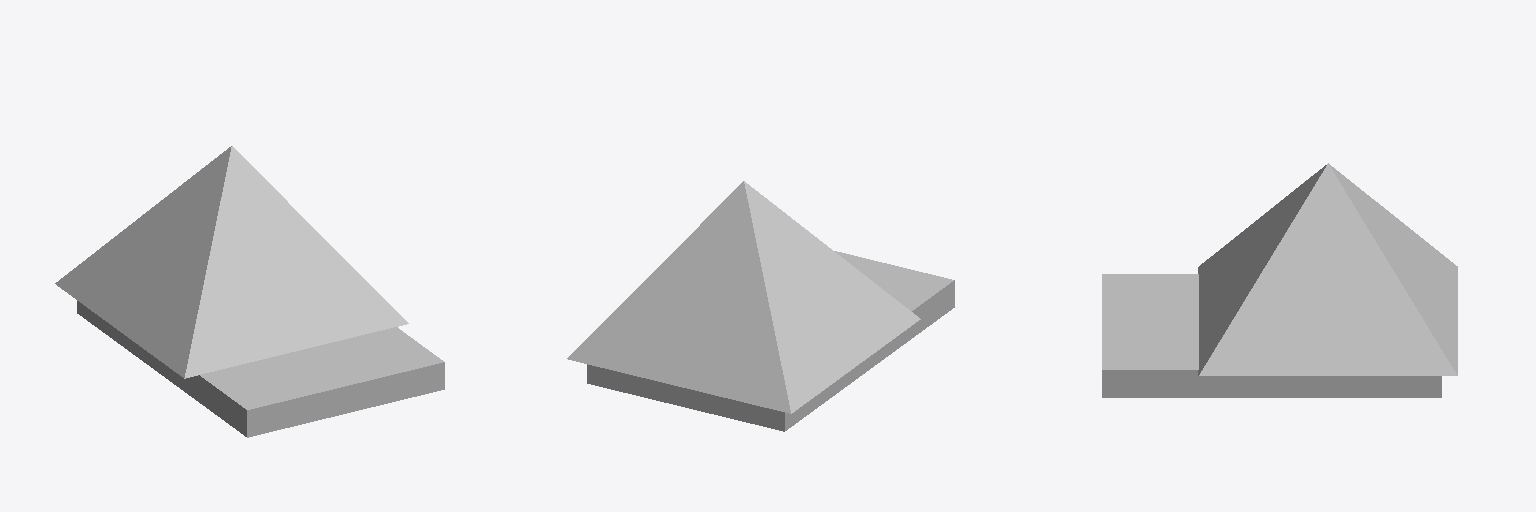
The model's file is Wall3.obj.
3 renders of one model, left to right at view 1: azimuth 30°, elevation 25°; view 2: azimuth 150°, elevation 25°; view 3: azimuth 270°, elevation 25°, orthographic.
Parts seen in each view (by area): view 1: Wall2:polySurface3 Wall2:polySurface28 Bench:Bench:polySurface15, Wall2:pCube326 Wall2:polySurface2 Wall2:polySurface3 Wall2:polyS; view 2: Wall2:polySurface3 Wall2:polySurface28 Bench:Bench:polySurface15, Wall2:pCube326 Wall2:polySurface2 Wall2:polySurface3 Wall2:polyS; view 3: Wall2:polySurface3 Wall2:polySurface28 Bench:Bench:polySurface15, Wall2:pCube326 Wall2:polySurface2 Wall2:polySurface3 Wall2:polyS.
Boxes of the visible parts, box(x1,y1,x2,y2) form: Wall2:polySurface3 Wall2:polySurface28 Bench:Bench:polySurface15: box(55, 146, 443, 409); Wall2:pCube326 Wall2:polySurface2 Wall2:polySurface3 Wall2:polyS: box(77, 301, 444, 437); Wall2:polySurface3 Wall2:polySurface28 Bench:Bench:polySurface15: box(567, 181, 953, 413); Wall2:pCube326 Wall2:polySurface2 Wall2:polySurface3 Wall2:polyS: box(587, 251, 954, 431); Wall2:polySurface3 Wall2:polySurface28 Bench:Bench:polySurface15: box(1102, 163, 1457, 375); Wall2:pCube326 Wall2:polySurface2 Wall2:polySurface3 Wall2:polyS: box(1102, 276, 1441, 397).
Size of the model in its own units: 105 by 82.9 by 144.